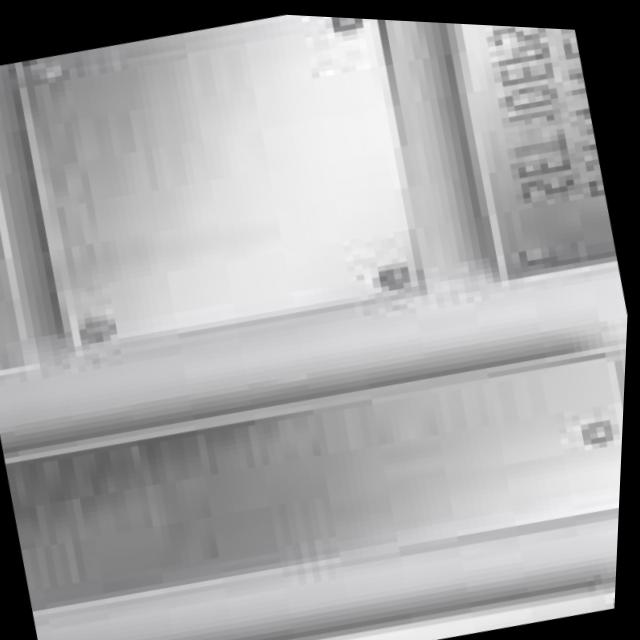metal-plates: (7, 350, 628, 613), (15, 13, 429, 358)
